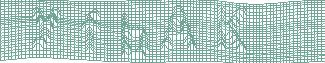A: (158, 4, 200, 52)
K: (215, 2, 249, 53)
b: (119, 11, 151, 60)
f: (79, 8, 102, 54)
y: (30, 5, 62, 52)
